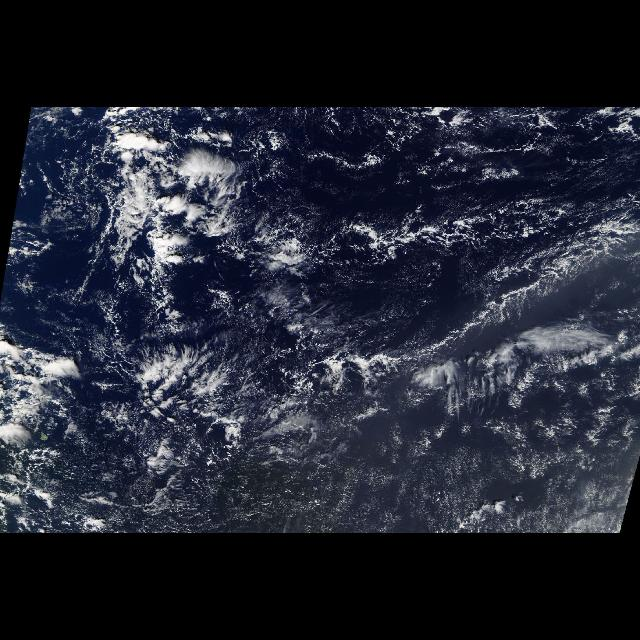Fish: (342, 201, 636, 333)
Sugar: (266, 422, 626, 528)
